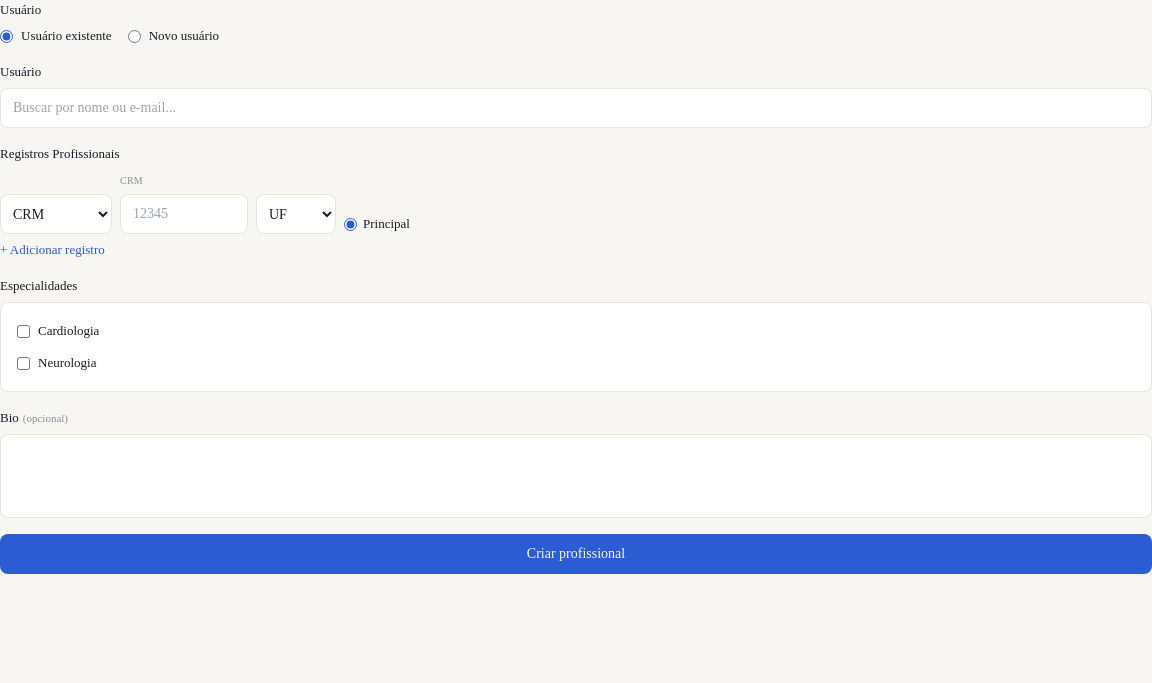
Test case: ProfessionalForm (integration) — create mode › shows validation errors when fullName and email are missing in new user mode
The image size is (1152, 683).
What coordinates should you click on to do the following:
click the radio button with test id "professional-form-user-mode-new"
I would click on:
 (134, 36)
Its box is [128,30,141,42].
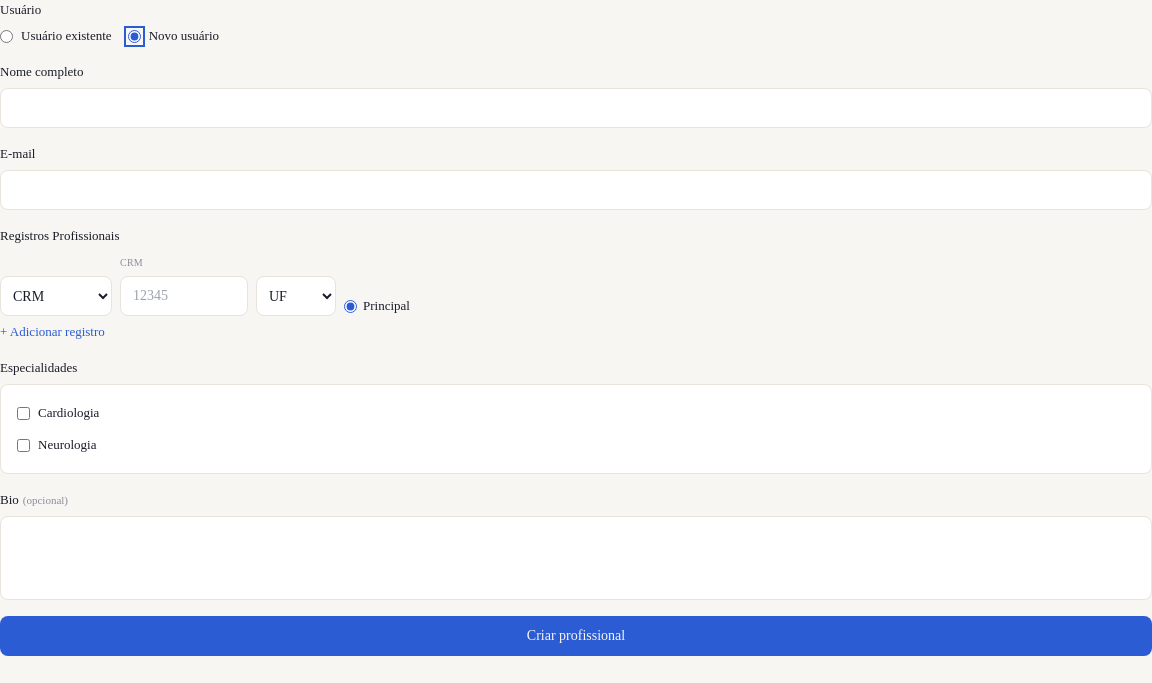
What coordinates should you click on to do the following:
click the button with test id "professional-form-submit"
I would click on:
 (576, 636)
Its box is [0,616,1151,656].
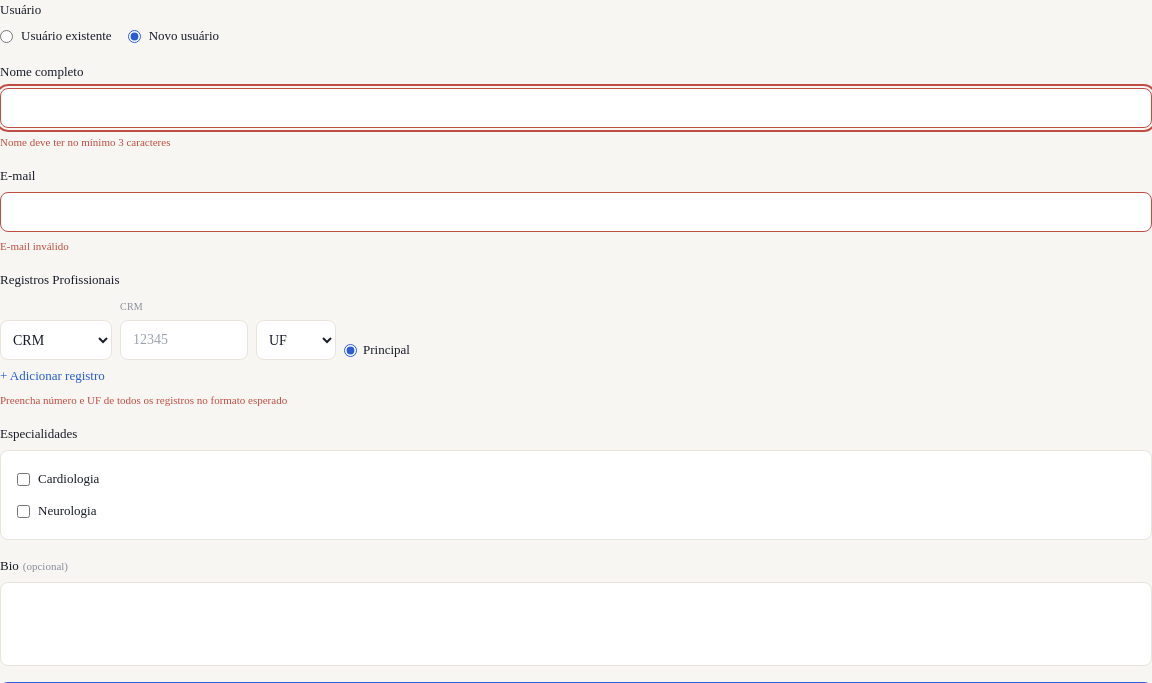
Expected: the text "Nome deve ter no mínimo 3 caracteres" is shown, [0,136,170,148]
Expected: the text "E-mail inválido" is shown, [0,240,69,252]
